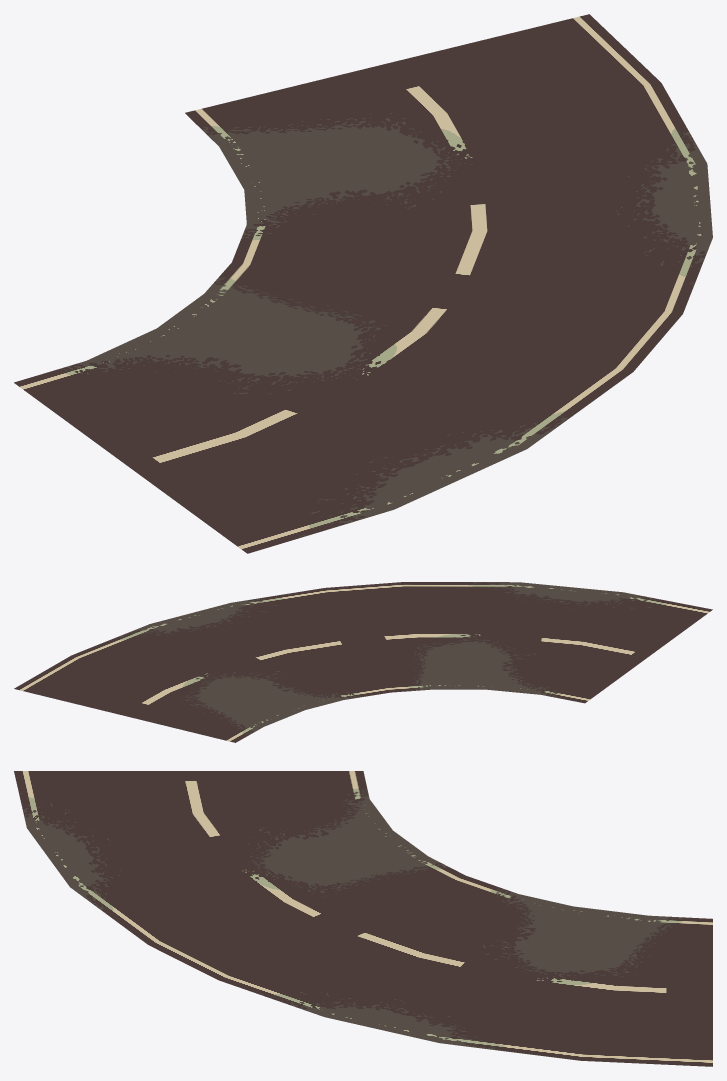
Rendered from road_curve.glb.
The picture shows the model from 3 angles, top to bottom: view 1: azimuth 30°, elevation 25°; view 2: azimuth 150°, elevation 25°; view 3: azimuth 270°, elevation 25°; orthographic projection. The views are drawn at different scales.
Parts seen in each view (by area): view 1: Cube; view 2: Cube; view 3: Cube.
Part boxes in pixels (x1=…): Cube: x1=14, y1=14, x2=712, y2=553; Cube: x1=14, y1=582, x2=712, y2=742; Cube: x1=14, y1=771, x2=712, y2=1066.
Size of the model in its own units: 10 by 0.00475 by 10.
1 material, 1 textured.
